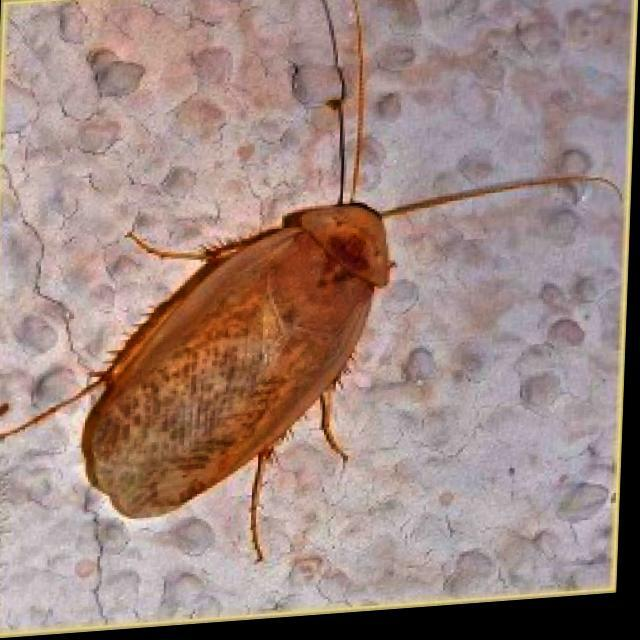cockroach: (77, 160, 444, 522)
